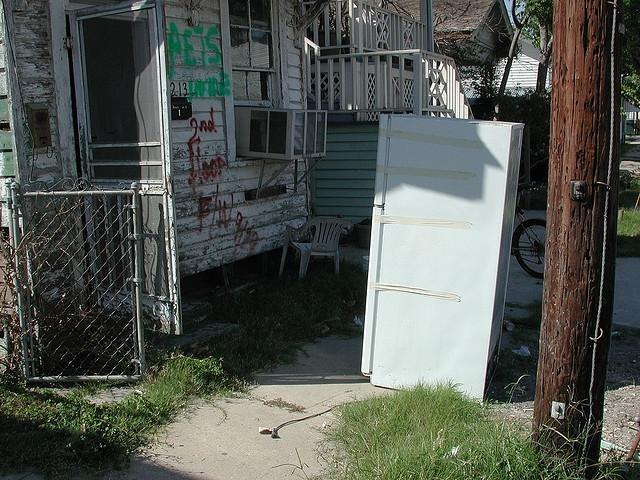bicycle: (512, 198, 548, 280)
